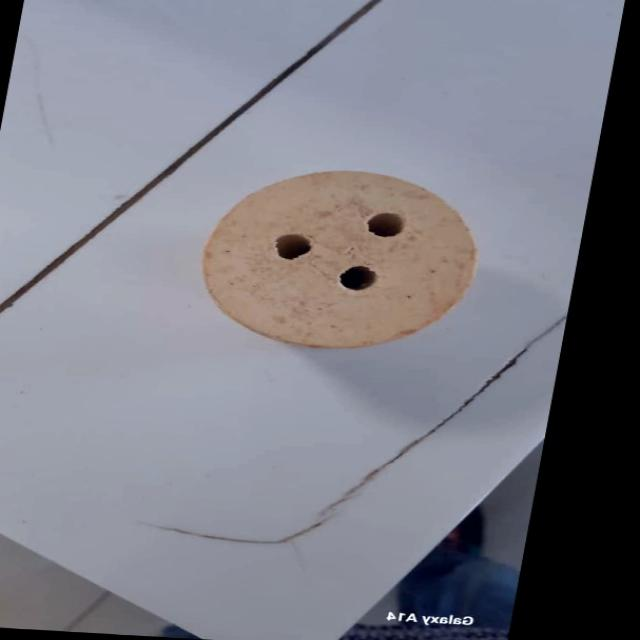Stopper: (191, 156, 498, 362)
